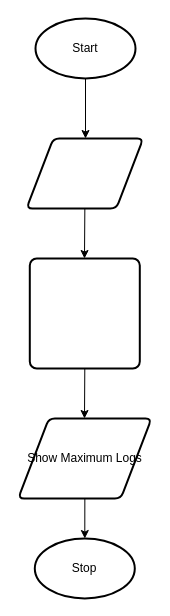
Some shapes in this 170 by 616 pixel diagram are drawn without their labels. Each missing label, with the centre of its shape:
"Enter log_length" goes at [84,173].
"max_logs = 1100 / (20 * log_length)" goes at [84,313].
